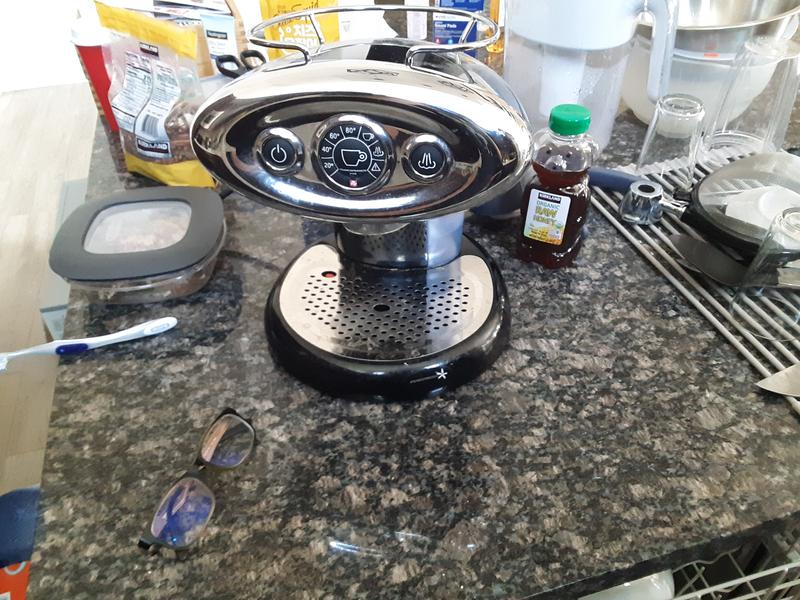glasses: (136, 405, 259, 563)
